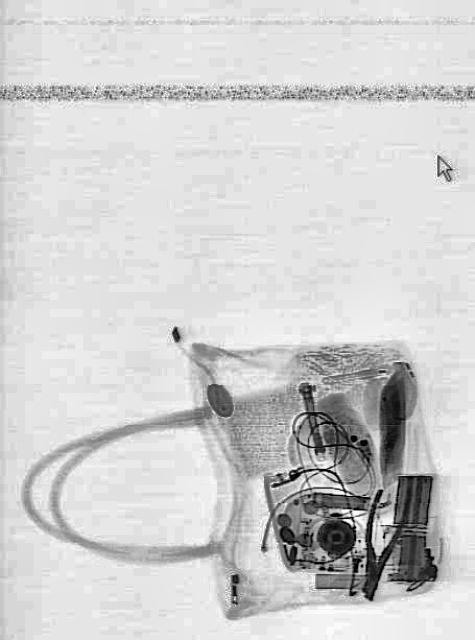Pliers: (345, 474, 415, 606)
